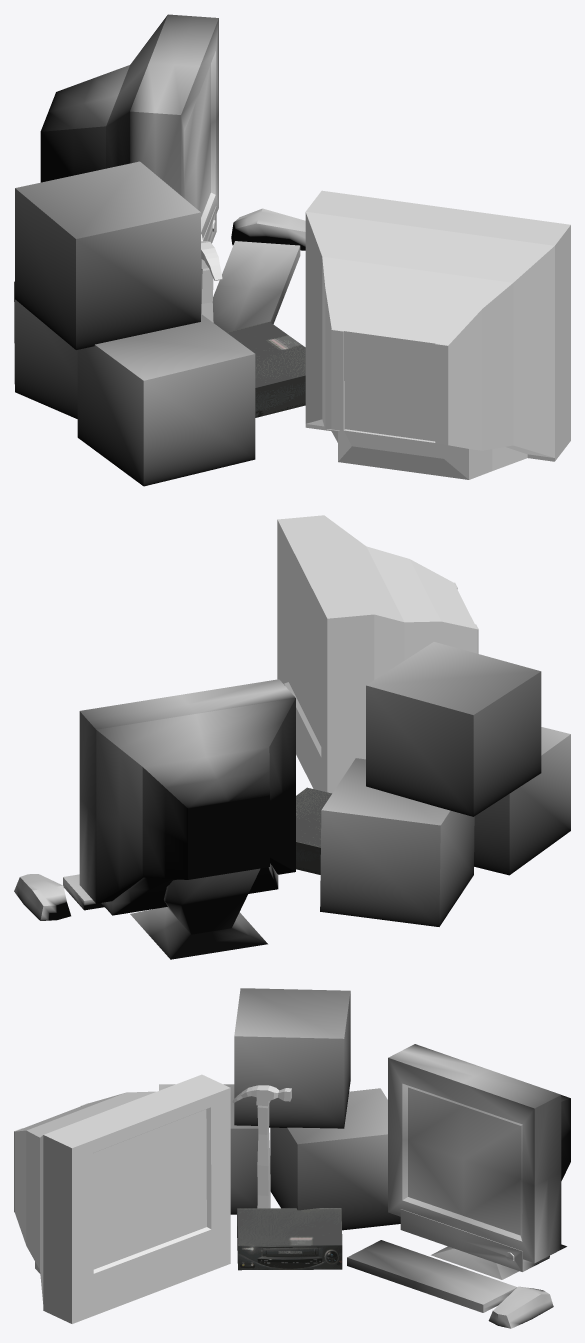
The model's file is PSX - Pack.fbx.
The picture shows the model from 3 angles, top to bottom: view 1: azimuth 30°, elevation 25°; view 2: azimuth 150°, elevation 25°; view 3: azimuth 270°, elevation 25°; orthographic projection. The views are drawn at different scales.
Visible parts, largest first — view 1: TV - Base, Computer, Box - C, Box - B, Box - A, Cube.009, Hammer; view 2: Computer, TV - Base, Box - C, Box - A, Box - B, TV - Screen, Cube.009; view 3: Computer, TV - Base, Box - C, TV - Screen, Box - A, Cube.009, Box - B, Hammer.
Boxes of the visible parts, x1,y1,x2,y2 form: TV - Base: [305, 190, 570, 479]; Computer: [40, 14, 305, 332]; Box - C: [15, 161, 200, 349]; Box - B: [77, 314, 255, 486]; Box - A: [14, 281, 77, 418]; Cube.009: [226, 321, 305, 417]; Hammer: [201, 234, 222, 322]; Computer: [14, 679, 295, 959]; TV - Base: [277, 515, 478, 793]; Box - C: [366, 642, 541, 816]; Box - A: [320, 758, 474, 926]; Box - B: [474, 727, 570, 875]; TV - Screen: [288, 556, 321, 746]; Cube.009: [296, 787, 331, 874]; Computer: [347, 1044, 570, 1328]; TV - Base: [14, 1074, 230, 1323]; Box - C: [234, 988, 350, 1128]; TV - Screen: [93, 1109, 206, 1269]; Box - A: [270, 1088, 400, 1230]; Cube.009: [237, 1208, 342, 1270]; Box - B: [159, 1084, 258, 1214]; Hammer: [232, 1085, 291, 1208].
Bounding box in the file's own units: 361 × 196 × 522.
